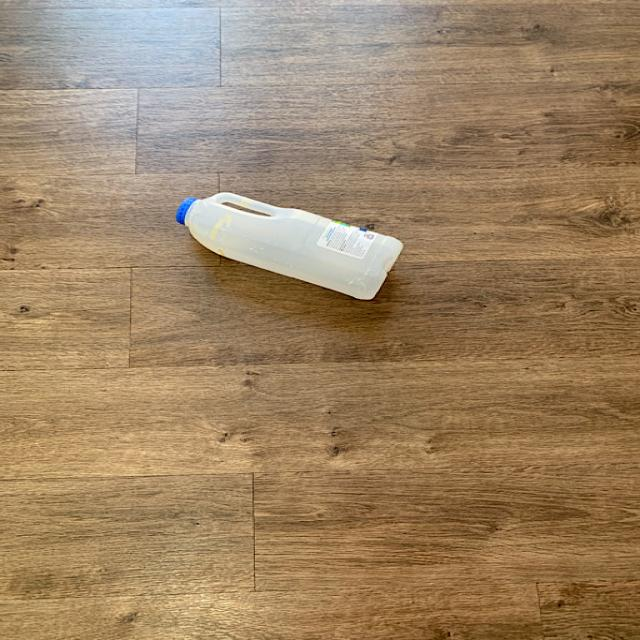litter: (170, 192, 410, 304)
